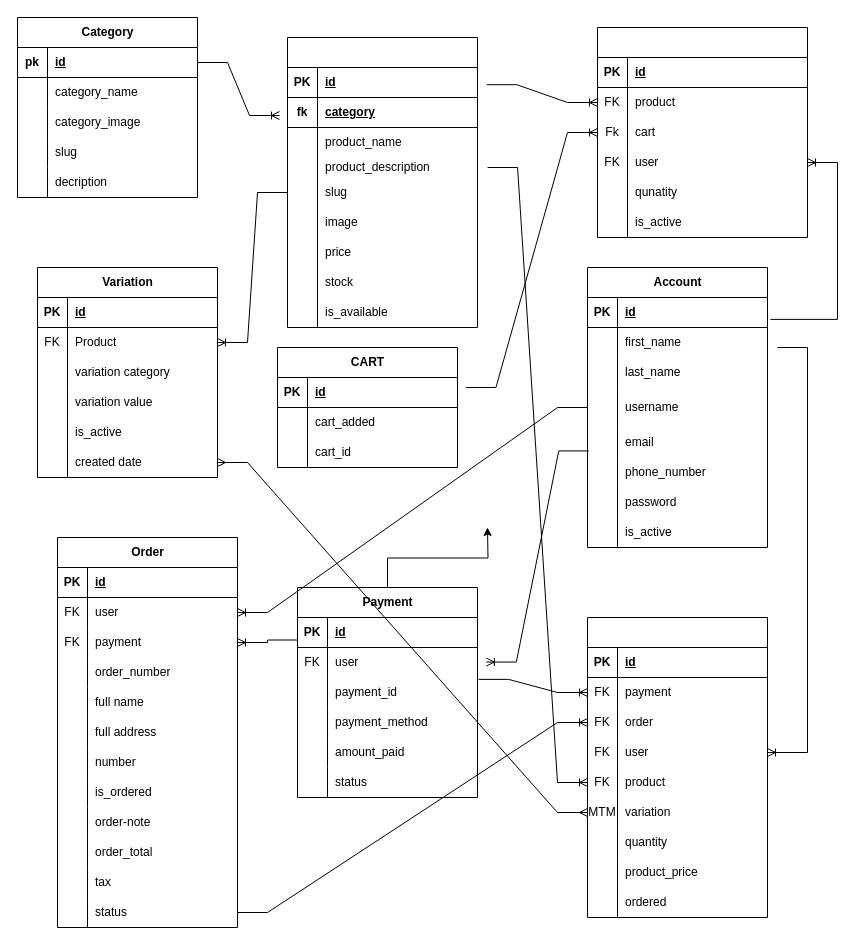
Some shapes in this 863 by 945 pixel diagram are drawn without their labels. The box of each missing label's shape, as (x1, y1, x2, y2) in pixels:
CartItem: (596, 26, 808, 238)
Products: (286, 36, 478, 328)
Table: (586, 616, 768, 918)
